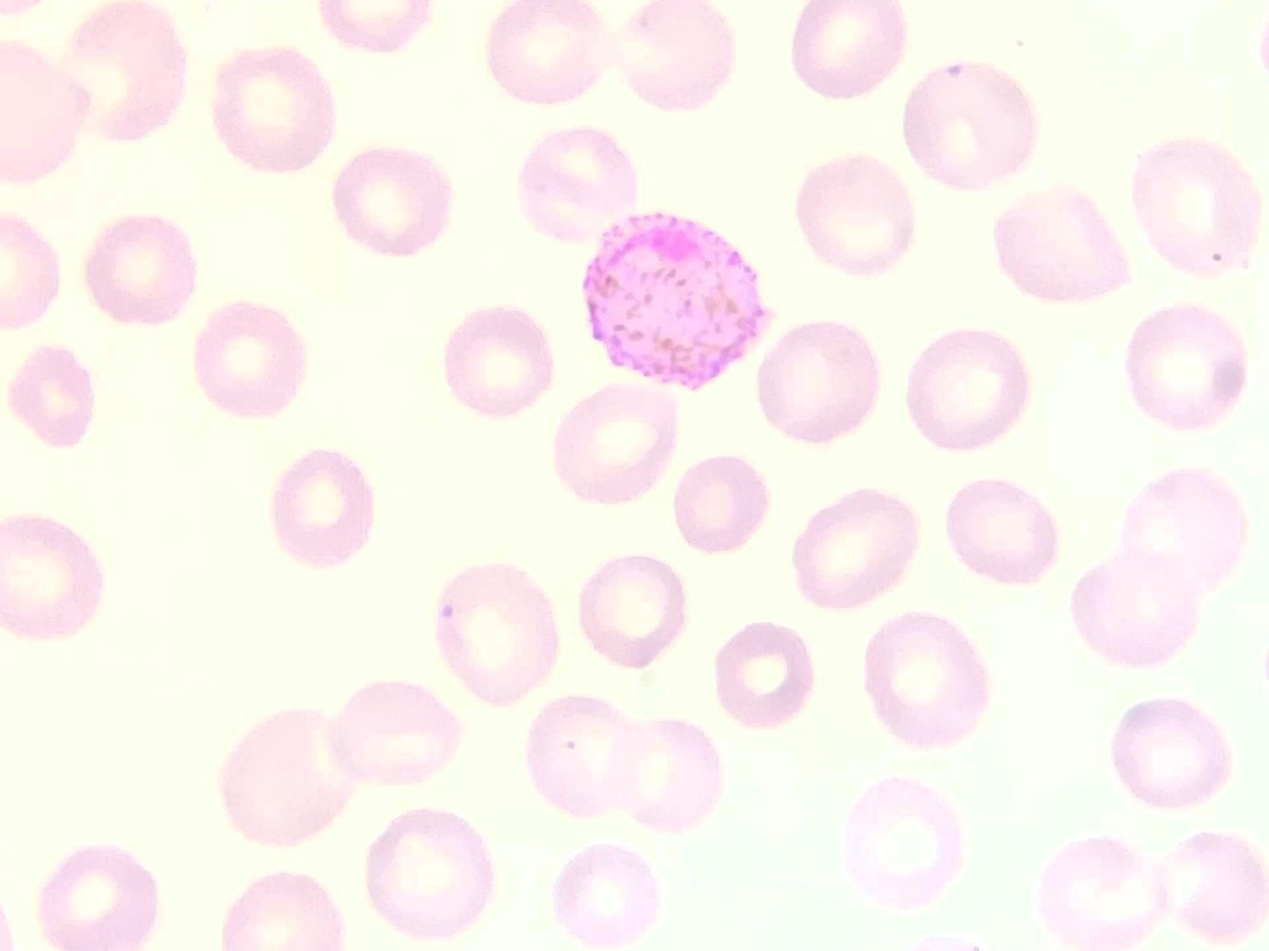Infected: (502, 560, 685, 746)
Uninfected: (915, 104, 1048, 241), (8, 673, 135, 812), (231, 759, 364, 889), (278, 202, 404, 338), (707, 247, 829, 385), (137, 645, 272, 768), (22, 355, 151, 483), (776, 15, 902, 138), (69, 280, 198, 400), (304, 42, 422, 173), (588, 444, 712, 567), (352, 340, 477, 461), (934, 776, 1055, 901), (22, 519, 142, 645), (1083, 812, 1197, 944), (237, 500, 360, 622), (616, 133, 740, 253), (388, 508, 510, 628), (104, 0, 229, 114), (353, 676, 472, 794), (629, 708, 747, 823), (808, 163, 934, 270), (532, 841, 653, 950), (38, 139, 155, 251), (962, 531, 1075, 646), (816, 693, 934, 803), (0, 4, 110, 121), (893, 381, 1000, 499), (581, 281, 690, 396), (660, 846, 779, 951), (1179, 768, 1267, 909), (1169, 308, 1269, 431), (546, 116, 652, 232), (1071, 627, 1181, 735), (210, 364, 323, 469), (1111, 0, 1229, 100), (715, 533, 824, 640), (454, 221, 559, 328), (362, 853, 477, 950), (608, 5, 714, 106), (1173, 504, 1262, 609), (499, 395, 595, 492), (928, 1, 1047, 76)
